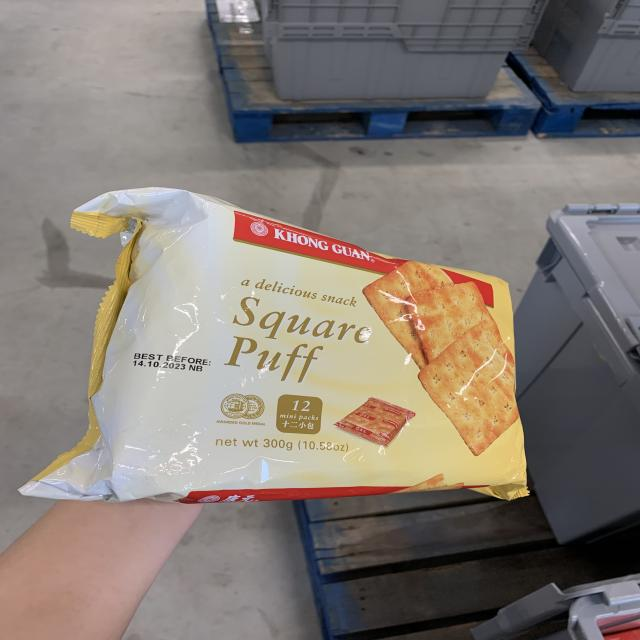object_name: (114, 204, 509, 496)
